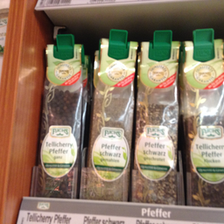spices: (84, 39, 138, 197), (134, 41, 180, 204), (183, 39, 224, 206), (44, 42, 82, 200)
